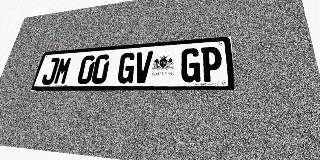0: (90, 54, 111, 84), (76, 55, 96, 84)
G: (180, 48, 200, 82), (116, 52, 136, 84)
J: (40, 58, 60, 85)
M: (53, 57, 73, 85)
P: (201, 46, 222, 82)
V: (133, 51, 153, 83)
